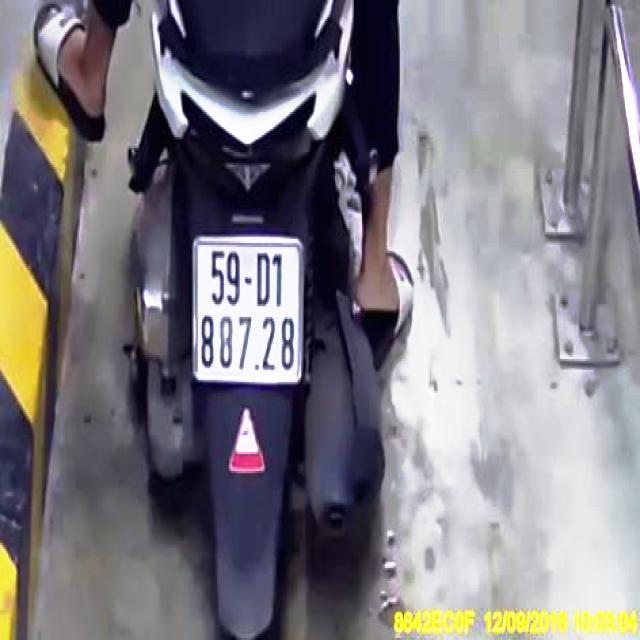license_plate: (196, 237, 303, 382)
